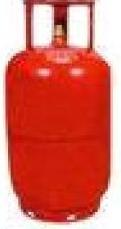cylinder: (1, 0, 121, 229)
